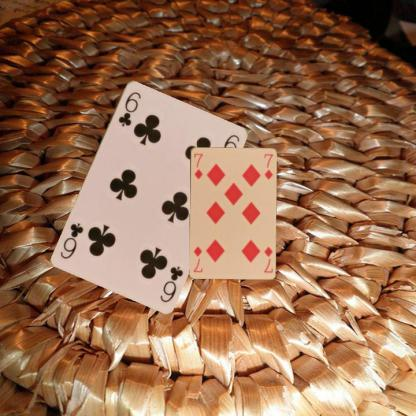6c: (115, 88, 142, 128), (157, 263, 184, 303)
7d: (191, 151, 204, 180), (261, 244, 274, 273)
